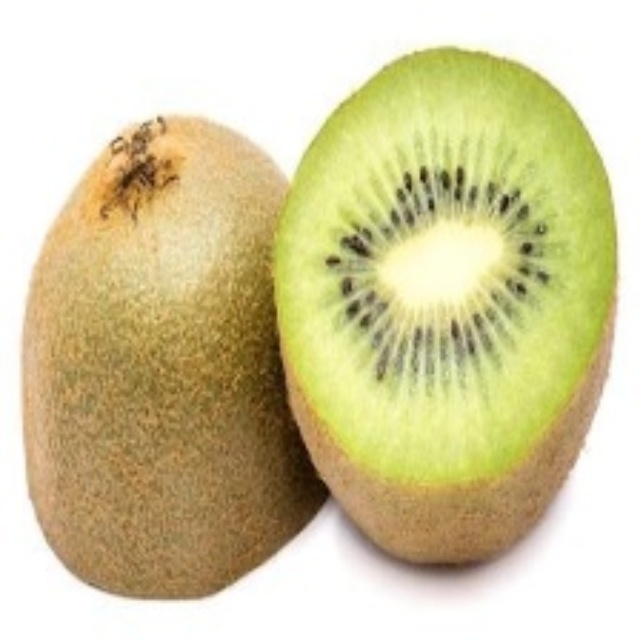kiwi: (279, 38, 613, 576), (25, 114, 312, 609)
